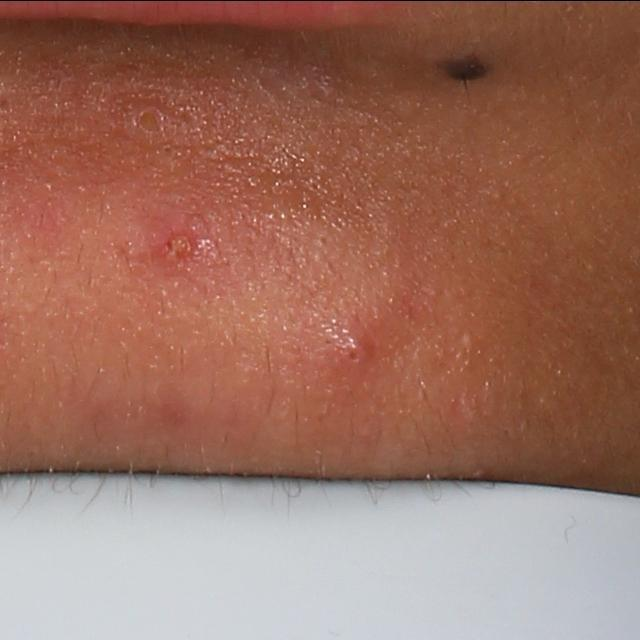nevus: (443, 60, 485, 85)
papule: (155, 218, 208, 271), (340, 330, 376, 372)
